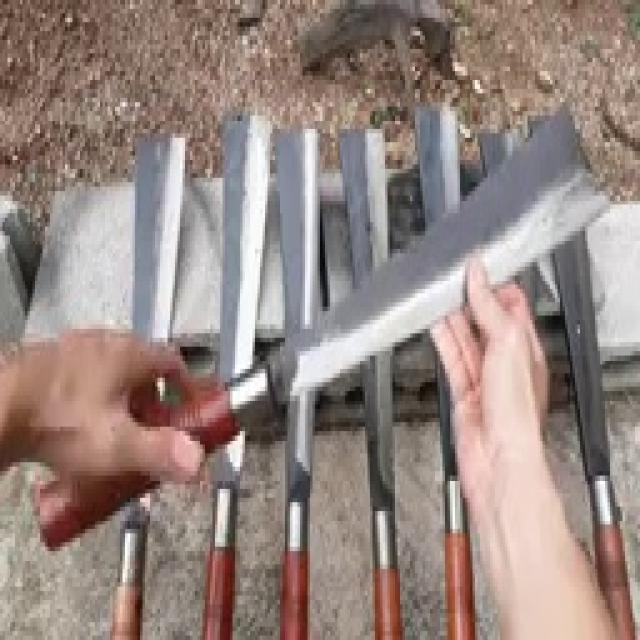eto: (35, 98, 617, 551)
